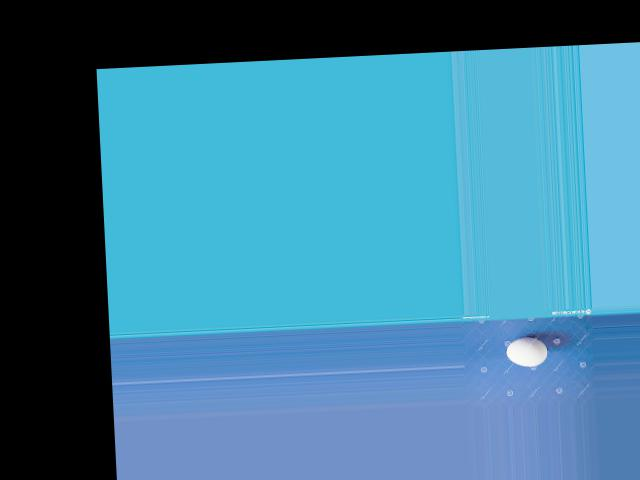egg: (505, 336, 547, 367)
